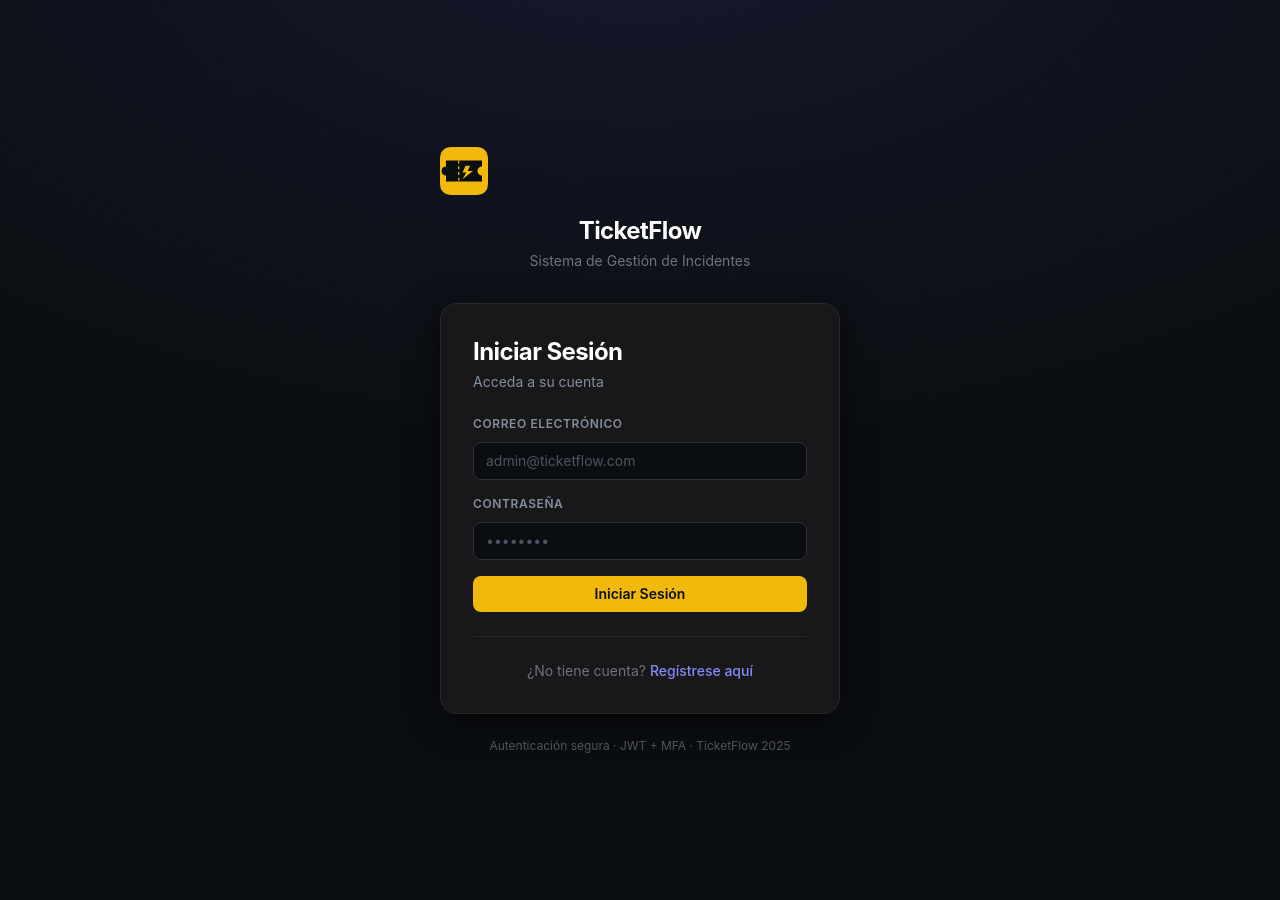
Test case: Login — flujo completo › muestra error genérico cuando la API rechaza sin mensaje de respuesta
Type "test@test.com" into the field with placeholder "admin@ticketflow.com" at (640, 460), box [473, 442, 807, 480]
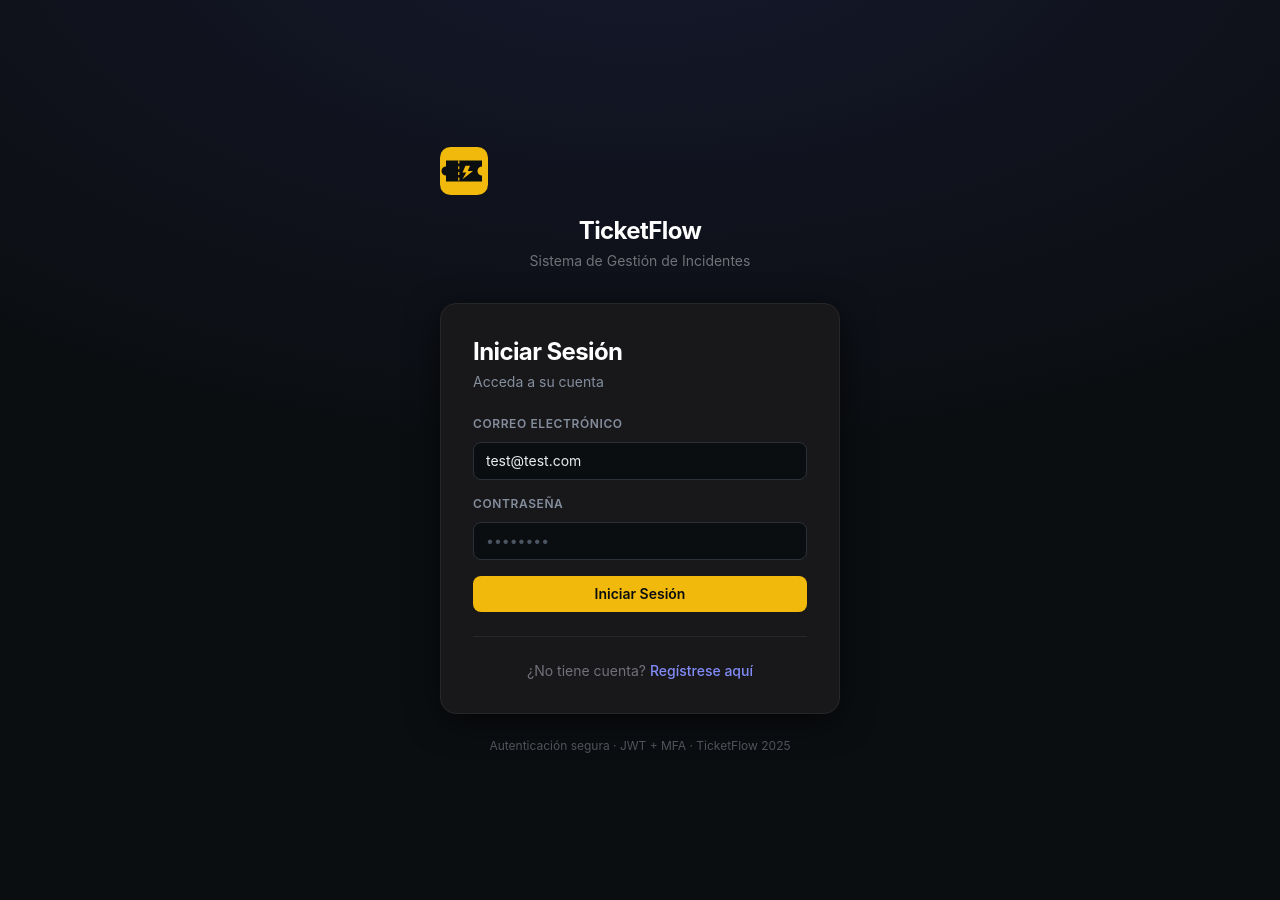
Type "password" into the password field with placeholder "••••••••" at (640, 540), box [473, 522, 807, 560]
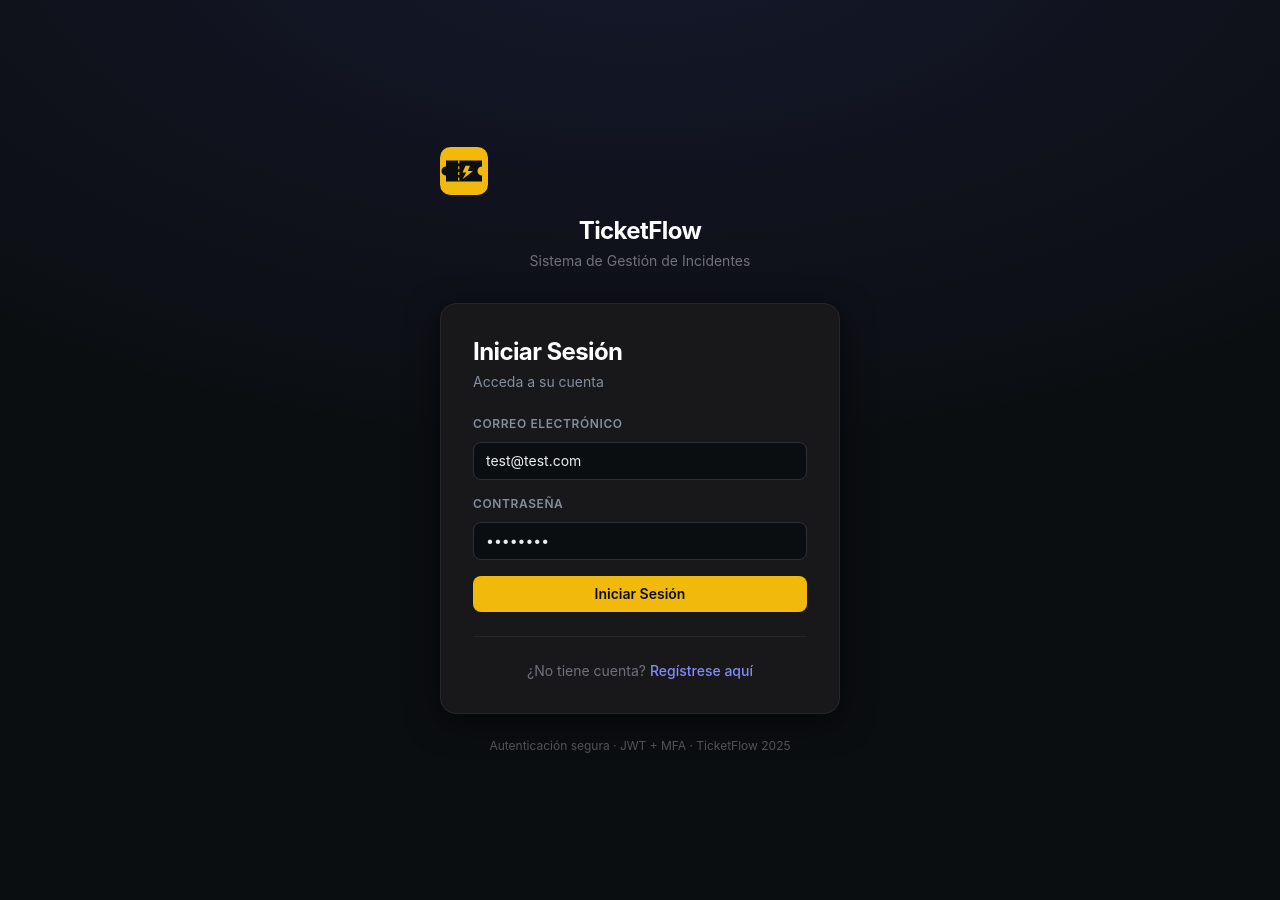
Click the button "Iniciar Sesión" at (640, 594), box [473, 576, 807, 612]
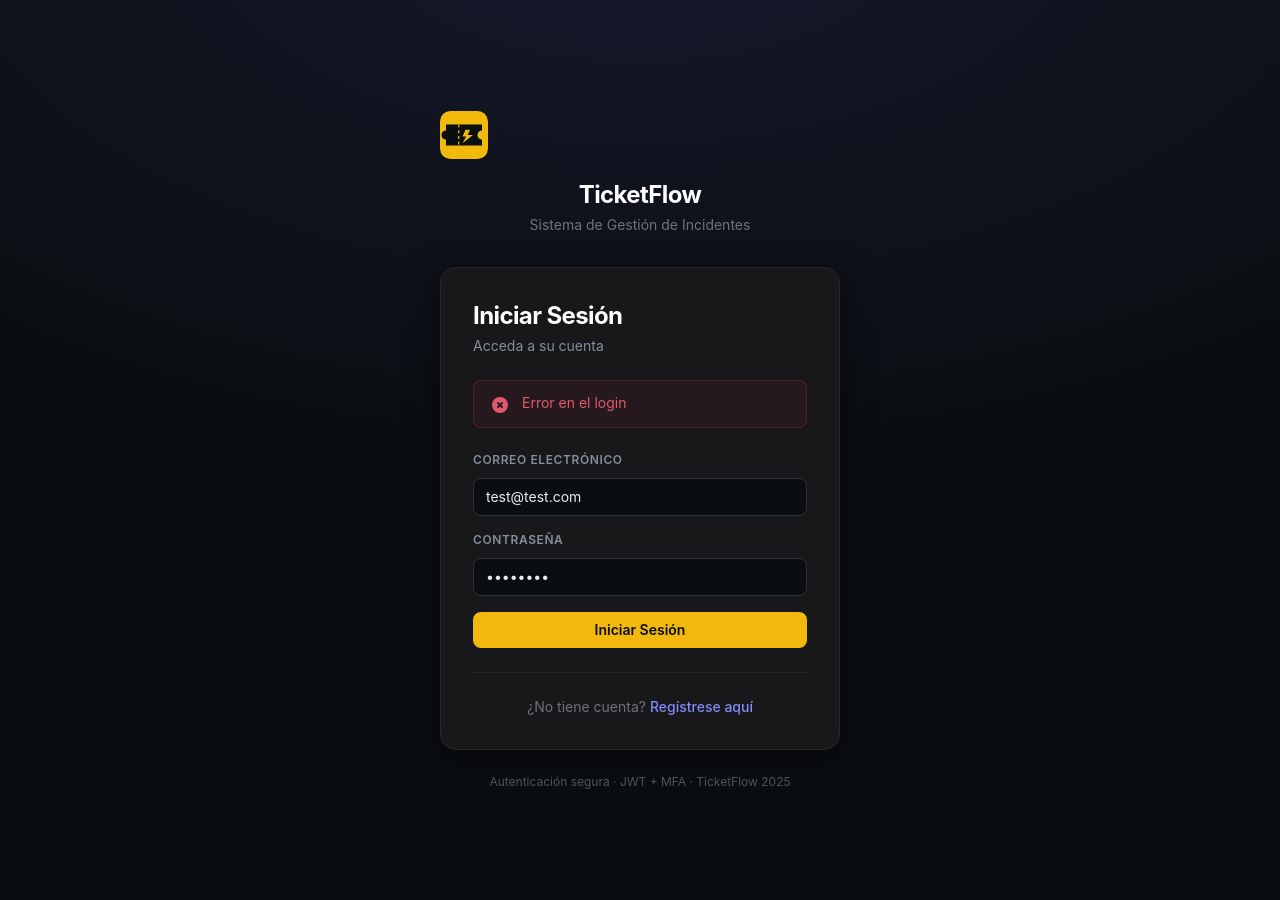
Check: the text "Error en el login" is shown, box [522, 392, 626, 412]
